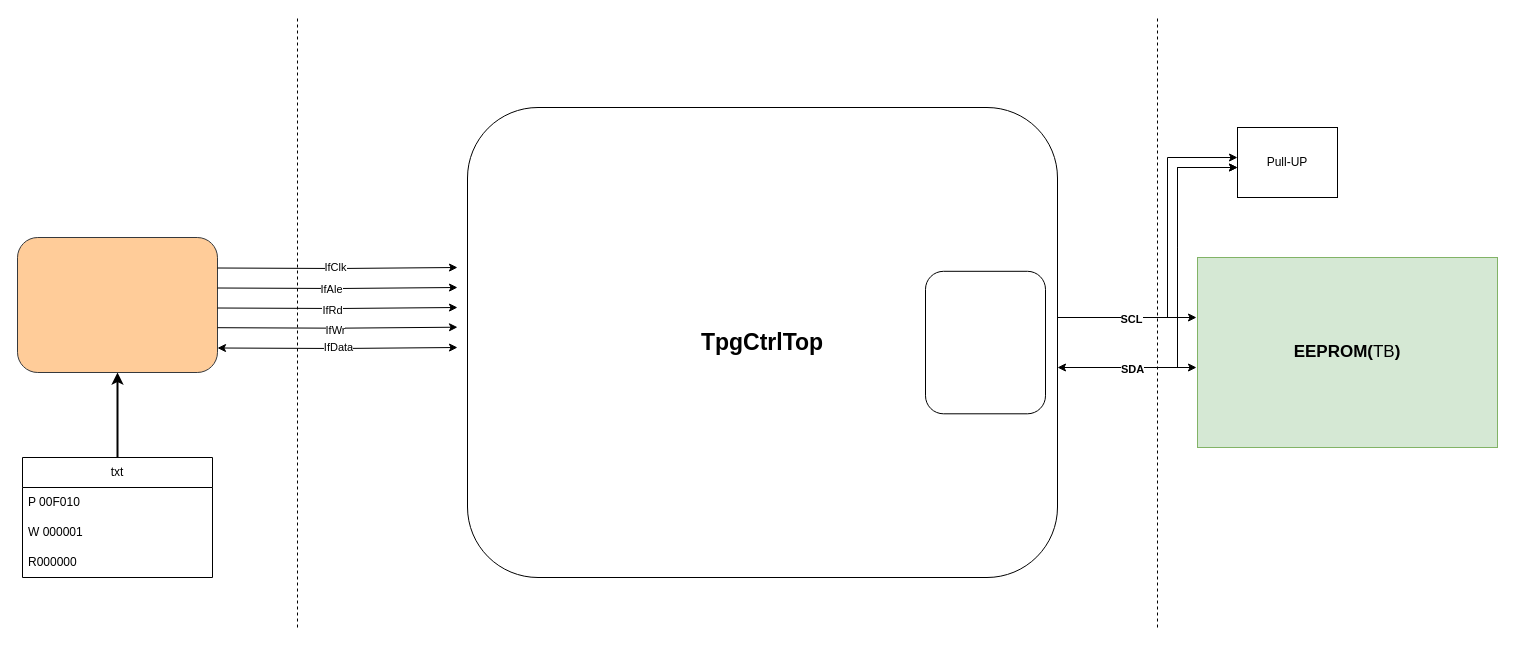
This 1515x646 diagram has some shape labels left out. The centre of each missing label's shape, as x and y in pixels:
"AP Board (TB)" belongs at pixel 117 304.
"EepRomCtrlTop" belongs at pixel 985 342.
